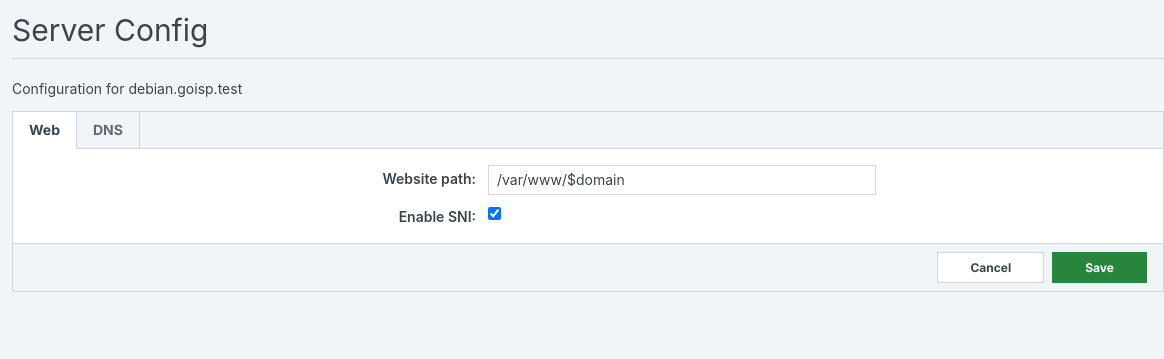
it: ServerConfigView › saves only the changed section and maps the checkbox back to y/n
Replace the text in the field with id "field-website_path" with "/srv/www/$domain" at (682, 180), box [488,165,876,195]
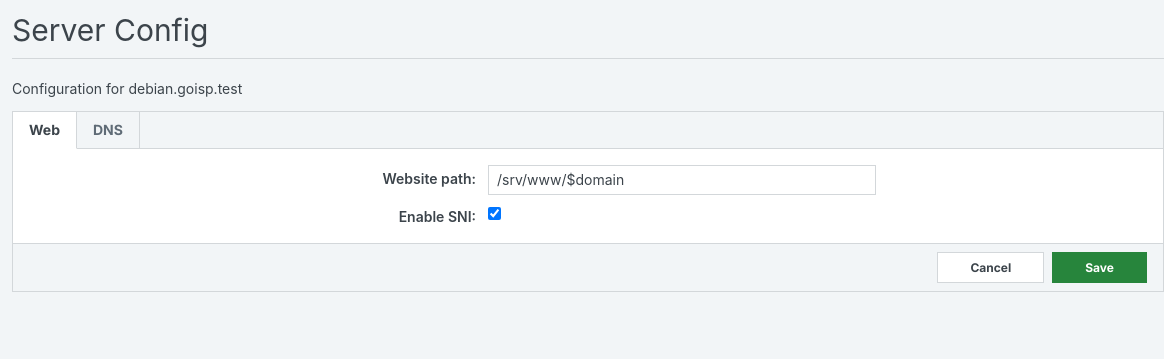
Click the checkbox with id "field-enable_sni".
click(494, 214)  # box [488,207,501,220]
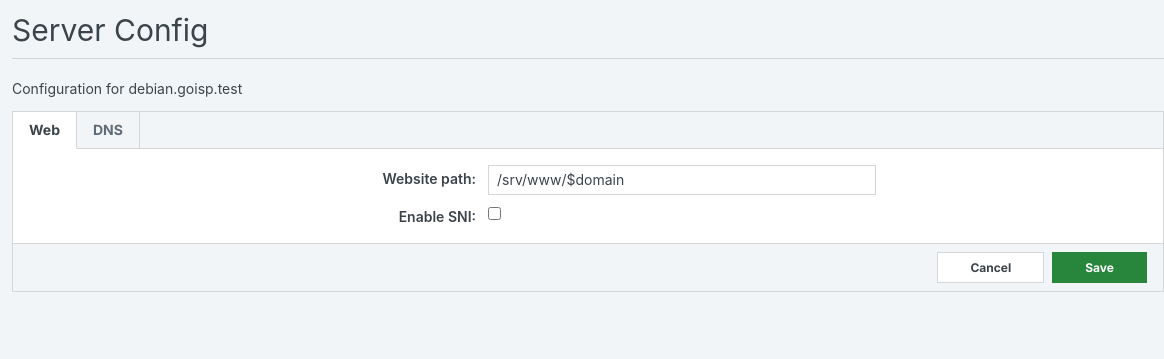
Submit the form, box [12,111,1163,292]
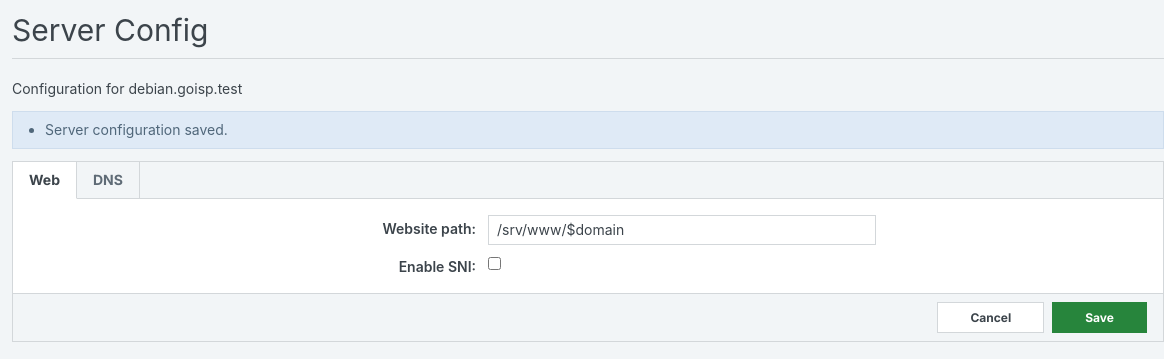
Expected: the message "Server configuration saved." is shown, [12,111,1163,149]
